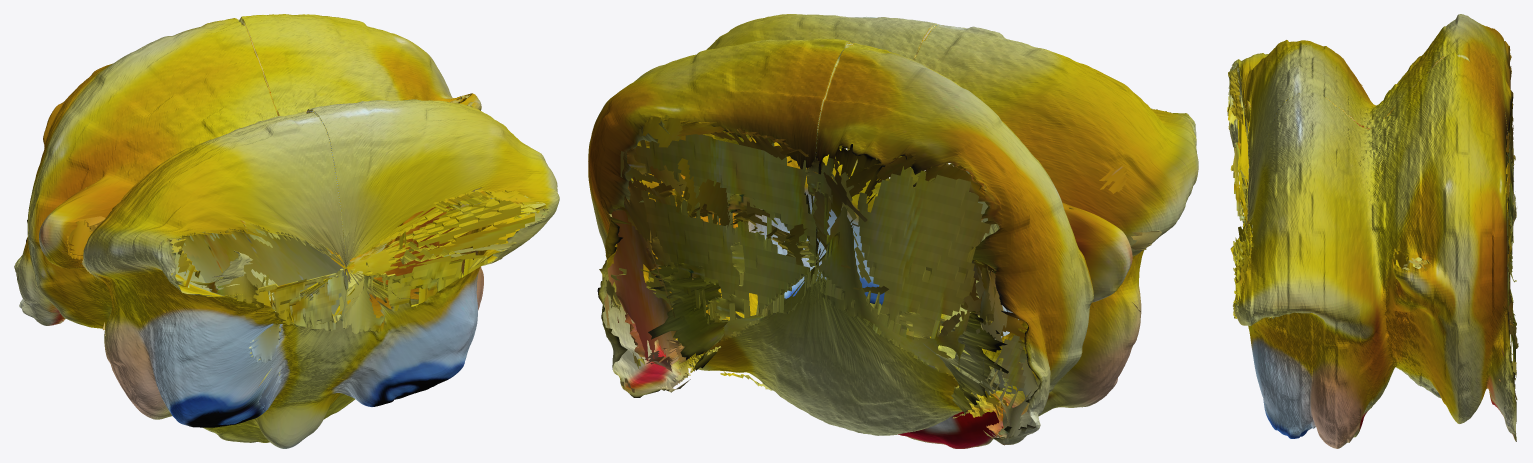
The model's file is snap48_mesh.glb.
3 views of the same model, side by side, from view 1: azimuth 30°, elevation 25°; view 2: azimuth 150°, elevation 25°; view 3: azimuth 270°, elevation 25° (orthographic). The views are drawn at different scales.
Parts seen in each view (by area): view 1: ipn, fill; view 2: ipn, fill; view 3: ipn, fill.
Boxes of the visible parts, x1,y1,x2,y2 form: ipn: (14, 14, 559, 448); fill: (62, 94, 549, 411); ipn: (588, 14, 1198, 448); fill: (604, 108, 1188, 438); ipn: (1229, 14, 1516, 448); fill: (1227, 46, 1518, 438).
Bounding box in the file's own units: 1.99 × 1.62 × 1.14.
2 materials, 1 textured.
